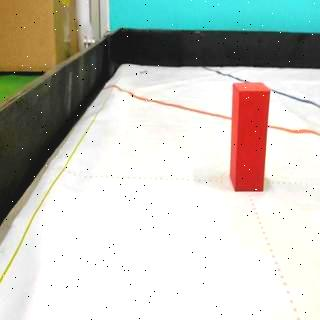redbox: (230, 81, 271, 192)
